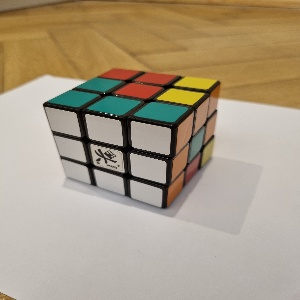cube: (43, 68, 222, 210)
